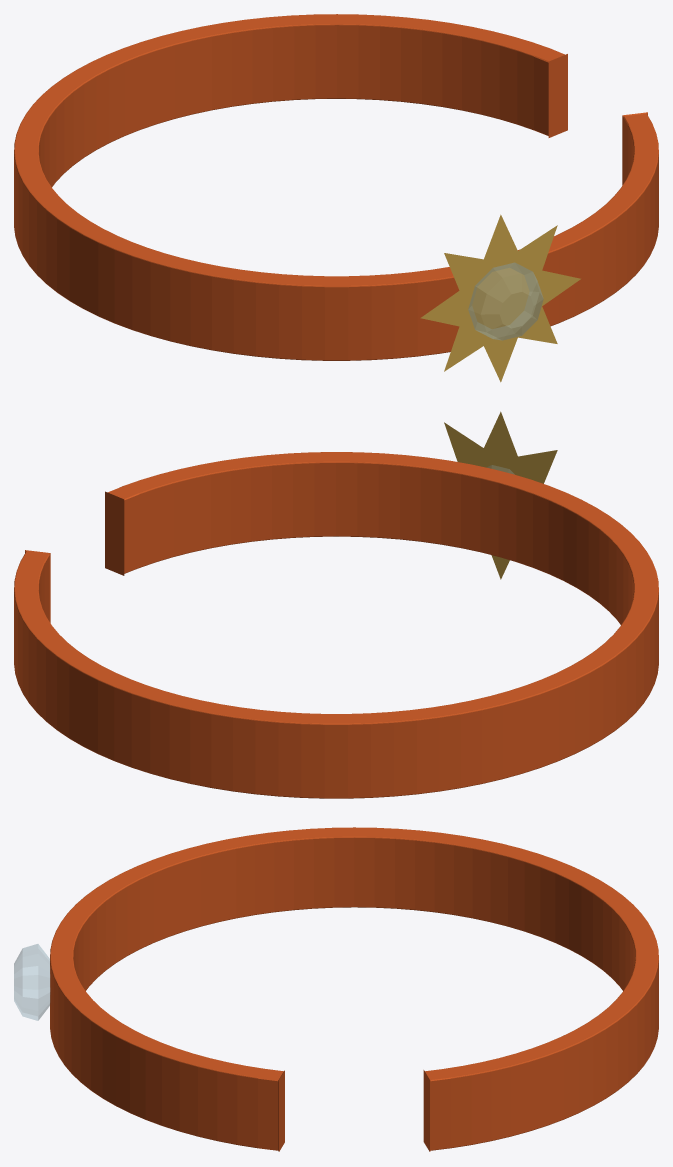
3 views of the same model, one above another, from view 1: azimuth 30°, elevation 25°; view 2: azimuth 150°, elevation 25°; view 3: azimuth 270°, elevation 25° (orthographic). The views are drawn at different scales.
Visible parts, largest first — view 1: TI017 / woven red-gold ribbon, TI017 / eight-point gold sunburst, TI017 / central aquamarine; view 2: TI017 / woven red-gold ribbon, TI017 / eight-point gold sunburst; view 3: TI017 / woven red-gold ribbon, TI017 / central aquamarine.
Boxes of the visible parts, <box> form: TI017 / woven red-gold ribbon: <box>14,14,658,360</box>; TI017 / eight-point gold sunburst: <box>420,214,580,382</box>; TI017 / central aquamarine: <box>468,262,543,340</box>; TI017 / woven red-gold ribbon: <box>14,452,658,798</box>; TI017 / eight-point gold sunburst: <box>444,411,557,579</box>; TI017 / woven red-gold ribbon: <box>50,827,658,1151</box>; TI017 / central aquamarine: <box>14,944,50,1020</box>.
Size of the model in its own units: 3.08 by 0.9 by 3.3.
